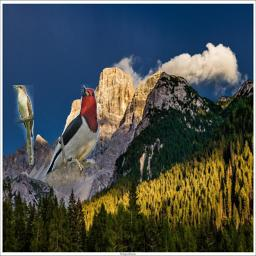Cuckoo: (13, 85, 34, 165)
Woodpecker: (42, 81, 101, 186)
